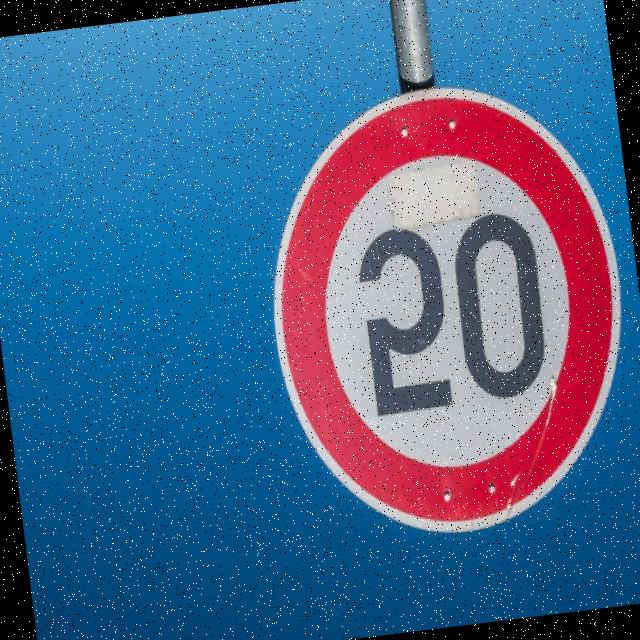speed_limit_50: (241, 59, 640, 564)
